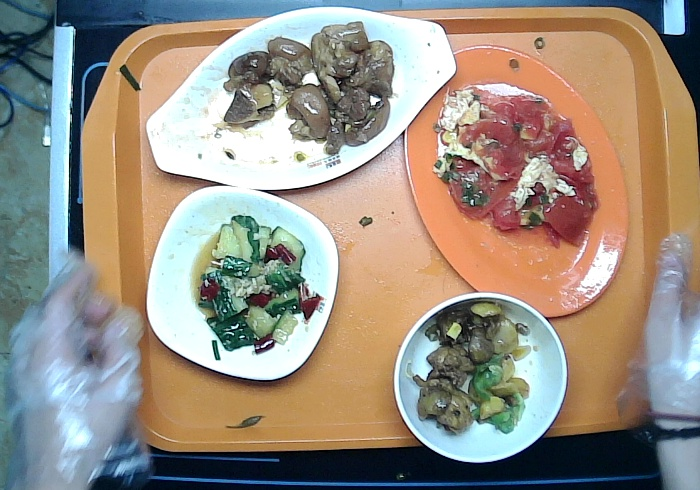NLDX-Bai_Se_Xiao_Fang_Die: (144, 183, 343, 383)
NLDX-Fan_Wan: (391, 289, 571, 468)
NLDX-Ju_Se_Pan: (401, 41, 630, 320)
NLDX-Yu_Pan: (142, 3, 458, 192)
